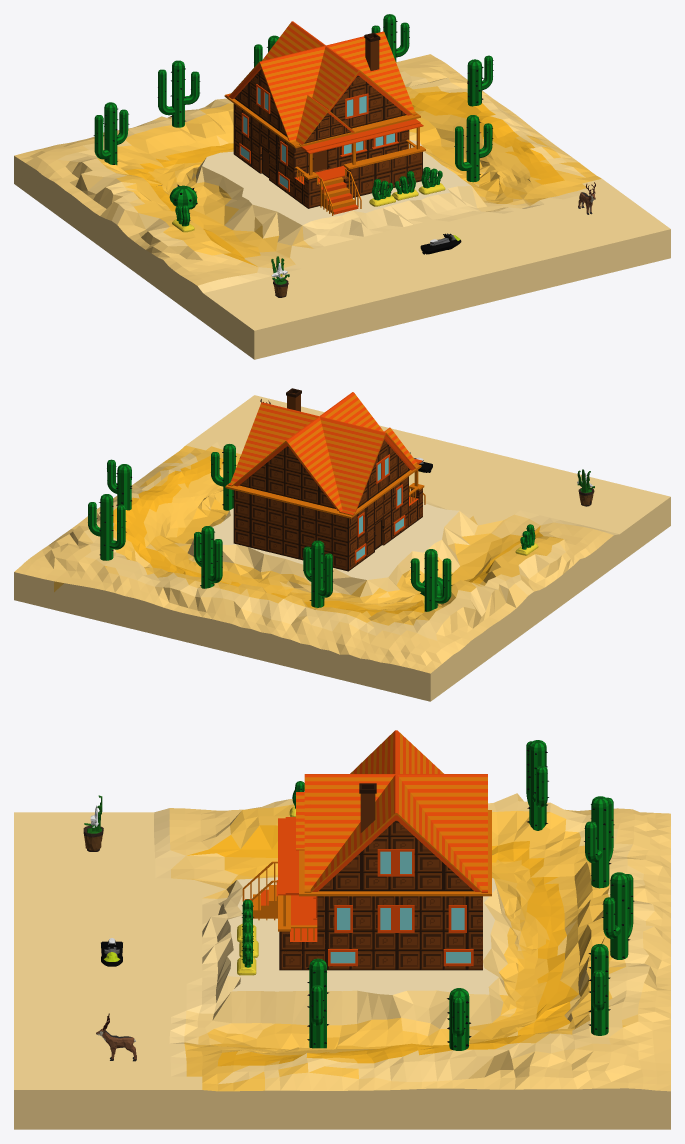
The picture shows the model from 3 angles, top to bottom: view 1: azimuth 30°, elevation 25°; view 2: azimuth 150°, elevation 25°; view 3: azimuth 270°, elevation 25°; orthographic projection. The views are drawn at different scales.
Visible parts, largest first — view 1: Cube.001, Cube, Cylinder.037, Cylinder.044, Cylinder.045, Cylinder.038, Cylinder.042, Cylinder.039, Cylinder.041, OBJRANDOM_MONJA BLANCA, Sphere.023, Cylinder.040; view 2: Cube.001, Cube, Cylinder.042, Cylinder.045, Cylinder.044, Cylinder.043, Cylinder.037, Cylinder.038; view 3: Cube.001, Cube, Cylinder.043, Cylinder.044, Cylinder.045, Cylinder.042, Cylinder.037, Cylinder.038, OBJRANDOM_MONJA BLANCA, Cylinder.041, ANIMAL_VENADO.
Boxes of the visible parts, x1,y1,x2,y2 form: Cube.001: (14,54,670,359); Cube: (224,21,425,215); Cylinder.037: (454,115,493,182); Cylinder.044: (157,60,200,127); Cylinder.045: (93,102,129,164); Cylinder.038: (467,55,493,106); Cylinder.042: (371,14,409,62); Cylinder.039: (369,179,395,206); Cylinder.041: (418,167,445,194); OBJRANDOM_MONJA BLANCA: (271,256,289,297); Sphere.023: (169,184,197,209); Cylinder.040: (392,171,418,200); Cube.001: (14,395,670,701); Cube: (225,388,425,571); Cylinder.042: (88,494,126,560); Cylinder.045: (410,549,452,611); Cylinder.044: (303,540,333,607); Cylinder.043: (193,526,222,588); Cylinder.037: (211,444,240,510); Cylinder.038: (107,459,131,510); Cube.001: (14,793,670,1129); Cube: (242,730,491,970); Cylinder.043: (602,872,634,959); Cylinder.044: (584,796,614,888); Cylinder.045: (526,740,548,830); Cylinder.042: (588,944,610,1035); Cylinder.037: (307,958,328,1048); Cylinder.038: (447,988,471,1050); OBJRANDOM_MONJA BLANCA: (83,795,103,851); Cylinder.041: (237,932,256,975); ANIMAL_VENADO: (96,1013,136,1061).
Bounding box in the file's own units: 4002 × 1605 × 4001.
30 materials, 3 textured.
